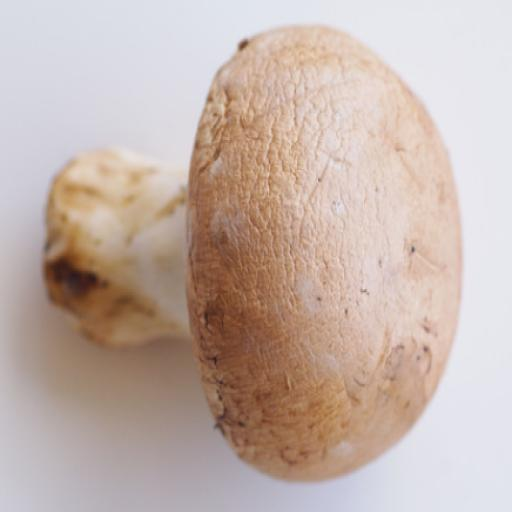Button Mushroom: (38, 21, 468, 482)
